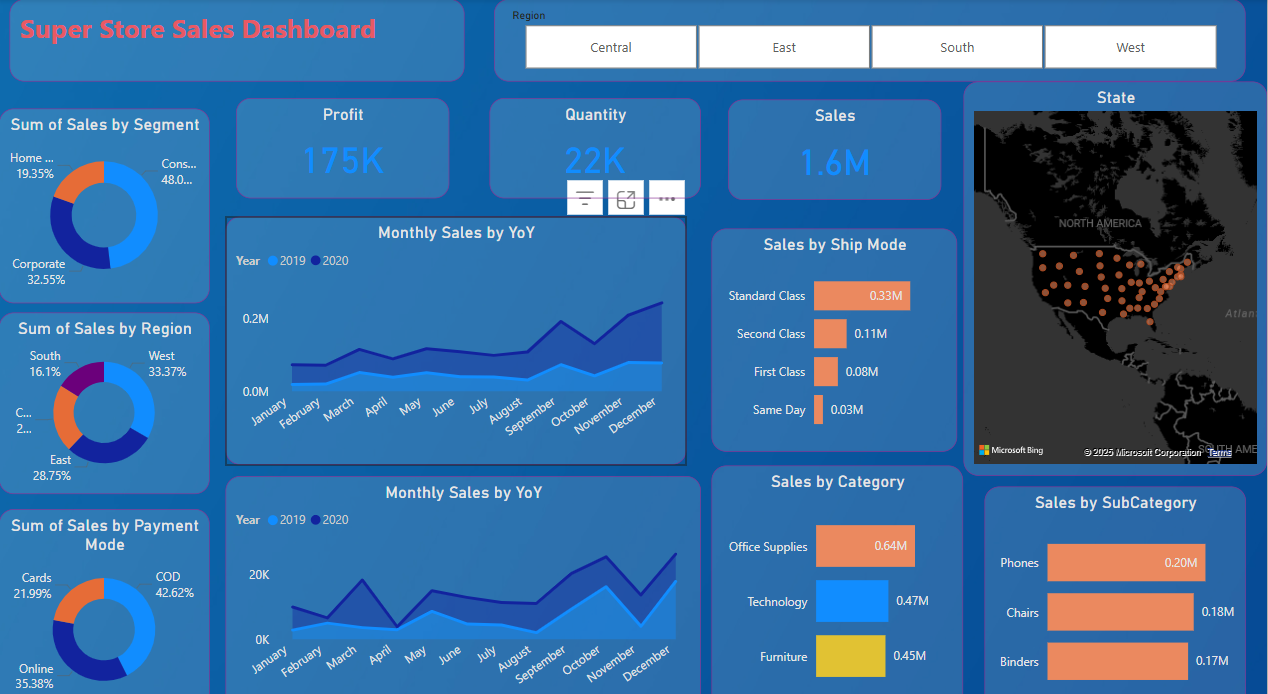

The page's visual inventory and layout, read from the dashboard file:
{"tool":"powerbi","page":{"name":"Page 1","canvas":[1280,720],"ordinal":0},"visuals":[{"type":"clusteredBarChart","title":" Sales by Category","fields":{"Category":["SuperStore_Sales_Dataset.Category"],"Y":["Sum(SuperStore_Sales_Dataset.Sales)"]},"box":[719,471,253.9,249.5],"z":0},{"type":"clusteredBarChart","title":" Sales by SubCategory","fields":{"Category":["SuperStore_Sales_Dataset.Sub-Category"],"Y":["Sum(SuperStore_Sales_Dataset.Sales)"]},"box":[994.9,491.6,264.1,228.9],"z":1000},{"type":"clusteredBarChart","title":" Sales by Ship Mode","fields":{"Category":["SuperStore_Sales_Dataset.Ship Mode"],"Y":["Sum(SuperStore_Sales_Dataset.Sales)"]},"box":[719.2,231.7,248.3,225.6],"z":2000},{"type":"stackedAreaChart","title":"Monthly Sales by YoY","fields":{"Y":["Sum(SuperStore_Sales_Dataset.Sales)"],"Category":["SuperStore_Sales_Dataset.Order Date.Variation.Date Hierarchy.Month"],"Series":["SuperStore_Sales_Dataset.Order Date.Variation.Date Hierarchy.Year"]},"box":[228.9,220.1,465.2,250.9],"z":3000},{"type":"slicer","title":"Monthly Profit by YoY","fields":{"Values":["SuperStore_Sales_Dataset.Region"]},"box":[500.4,0,758.7,83.6],"z":4000},{"type":"donutChart","fields":{"Category":["SuperStore_Sales_Dataset.Segment"],"Y":["Sum(SuperStore_Sales_Dataset.Sales)"]},"box":[0,110.1,212.8,196.6],"z":5000},{"type":"donutChart","fields":{"Y":["Sum(SuperStore_Sales_Dataset.Sales)"],"Category":["SuperStore_Sales_Dataset.Payment Mode"]},"box":[0,515.1,212.8,205.4],"z":6000},{"type":"stackedAreaChart","title":"Monthly Sales by YoY","fields":{"Category":["SuperStore_Sales_Dataset.Order Date.Variation.Date Hierarchy.Month"],"Series":["SuperStore_Sales_Dataset.Order Date.Variation.Date Hierarchy.Year"],"Y":["Sum(SuperStore_Sales_Dataset.Profit)"]},"box":[228.9,481.3,479.8,239.2],"z":7000},{"type":"textbox","box":[10.3,0,459.3,83.6],"z":8000},{"type":"card","title":"Sales","fields":{"Values":["Sum(SuperStore_Sales_Dataset.Sales)"]},"box":[735.9,101.5,215,101.5],"z":9000},{"type":"card","title":"Profit","fields":{"Values":["Sum(SuperStore_Sales_Dataset.Profit)"]},"box":[239.2,99.9,215,101.5],"z":10000},{"type":"card","title":"Quantity","fields":{"Values":["Sum(SuperStore_Sales_Dataset.Quantity)"]},"box":[495.1,99.9,213.5,101.5],"z":11000},{"type":"donutChart","fields":{"Y":["Sum(SuperStore_Sales_Dataset.Sales)"],"Category":["SuperStore_Sales_Dataset.Region"]},"box":[0,317,212.8,183.4],"z":12000},{"type":"map","fields":{"Category":["SuperStore_Sales_Dataset.State"]},"box":[972.9,83.6,306.7,397.7],"z":13000}]}

Visuals, with their boxes in screenshot pixels (x1, y1, x2, y2), scaled from the page's 1280x720 canvas onto the 1268x694 screenshot:
" Sales by Category" clusteredBarChart: [x1=712, y1=454, x2=964, y2=693]
" Sales by SubCategory" clusteredBarChart: [x1=986, y1=474, x2=1247, y2=693]
" Sales by Ship Mode" clusteredBarChart: [x1=712, y1=223, x2=958, y2=441]
"Monthly Sales by YoY" stackedAreaChart: [x1=227, y1=212, x2=688, y2=454]
"Monthly Profit by YoY" slicer: [x1=496, y1=0, x2=1247, y2=81]
donutChart - SuperStore_Sales_Dataset.Segment x Sum(SuperStore_Sales_Dataset.Sales): [x1=0, y1=106, x2=211, y2=296]
donutChart - Sum(SuperStore_Sales_Dataset.Sales) x SuperStore_Sales_Dataset.Payment Mode: [x1=0, y1=496, x2=211, y2=693]
"Monthly Sales by YoY" stackedAreaChart: [x1=227, y1=464, x2=702, y2=693]
textbox: [x1=10, y1=0, x2=465, y2=81]
"Sales" card: [x1=729, y1=98, x2=942, y2=196]
"Profit" card: [x1=237, y1=96, x2=450, y2=194]
"Quantity" card: [x1=490, y1=96, x2=702, y2=194]
donutChart - Sum(SuperStore_Sales_Dataset.Sales) x SuperStore_Sales_Dataset.Region: [x1=0, y1=306, x2=211, y2=482]
map - SuperStore_Sales_Dataset.State: [x1=964, y1=81, x2=1267, y2=464]
